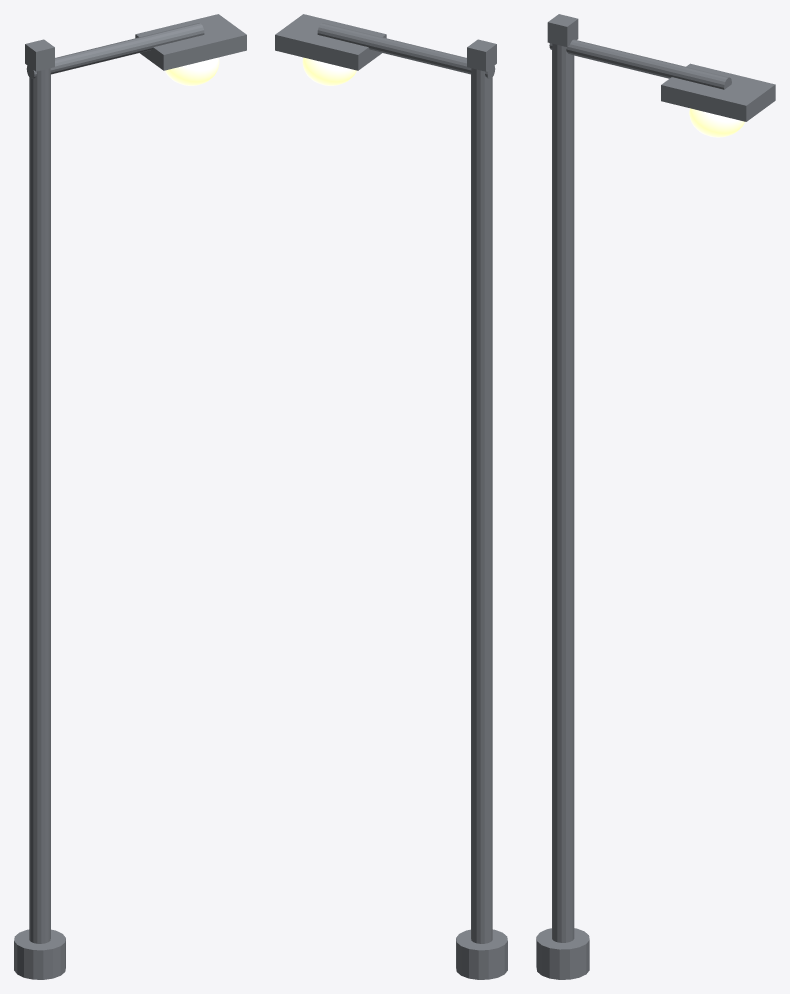
The model's file is streetlamp.glb.
The picture shows the model from 3 angles, left to right: view 1: azimuth 30°, elevation 25°; view 2: azimuth 150°, elevation 25°; view 3: azimuth 330°, elevation 25°; orthographic projection. The views are drawn at different scales.
Visible parts, largest first — view 1: streetlamp; view 2: streetlamp; view 3: streetlamp.
Boxes of the visible parts, x1=… form: streetlamp: x1=14, y1=14, x2=246, y2=979; streetlamp: x1=275, y1=14, x2=507, y2=979; streetlamp: x1=536, y1=14, x2=775, y2=979.
Bounding box in the file's own units: 1.14 × 4.67 × 0.26.
